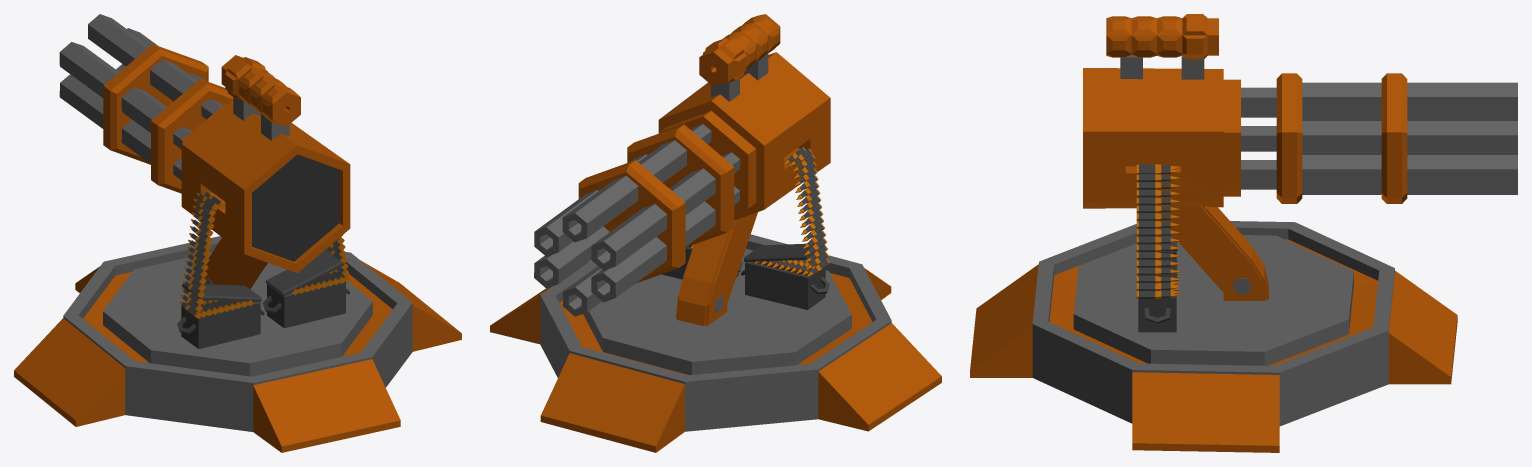
File: gatling.fbx
The picture shows the model from 3 angles, left to right: view 1: azimuth 30°, elevation 25°; view 2: azimuth 150°, elevation 25°; view 3: azimuth 270°, elevation 25°; orthographic projection. The views are drawn at different scales.
Parts seen in each view (by area): view 1: LaserSightGatelingGunTurret; view 2: LaserSightGatelingGunTurret; view 3: LaserSightGatelingGunTurret.
Boxes of the visible parts, box(x1,y1,x2,y2) form: LaserSightGatelingGunTurret: box(14, 14, 461, 452); LaserSightGatelingGunTurret: box(490, 14, 941, 452); LaserSightGatelingGunTurret: box(970, 14, 1517, 452).
Bounding box in the file's own units: 0.8899 × 0.6733 × 1.
